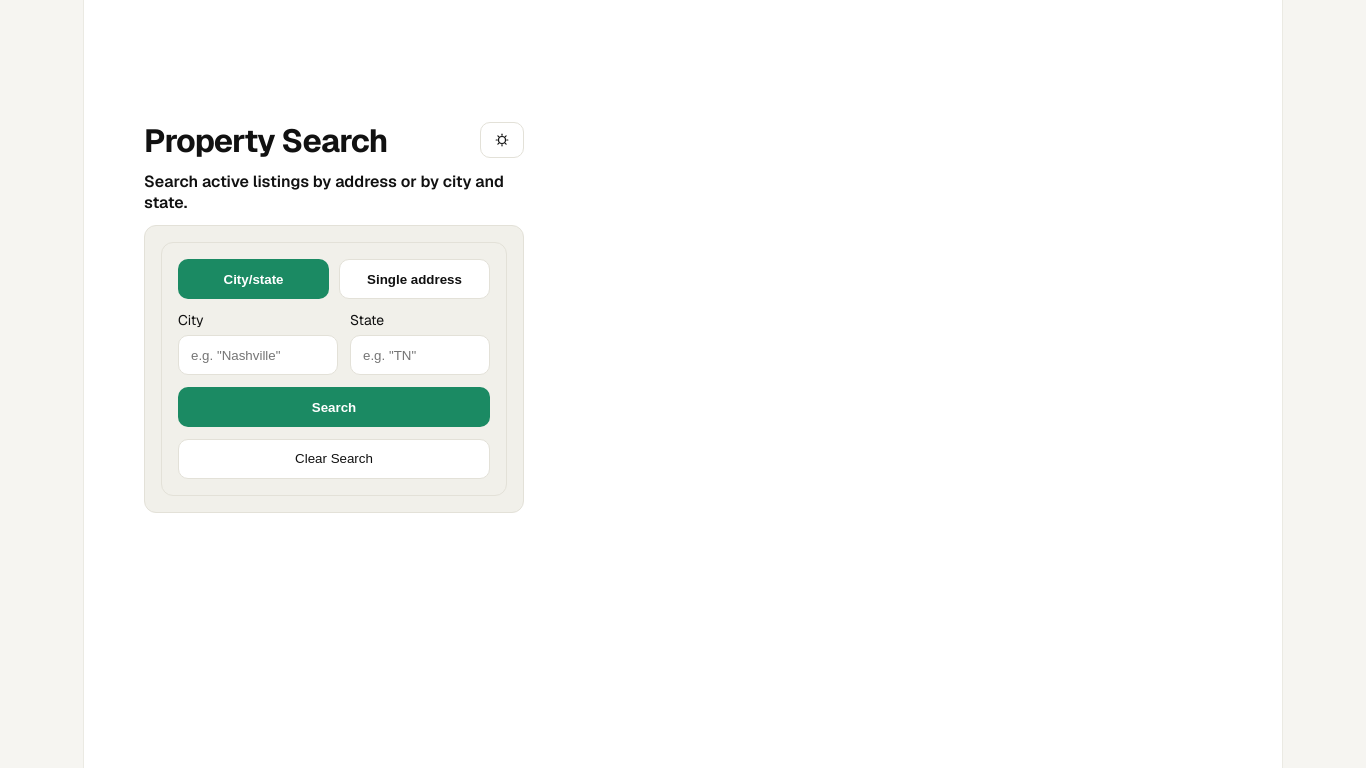
Test: Home page › Clear Search does not change the current mode
The image size is (1366, 768).
Click the button "Single address": (414, 279) [339, 259, 490, 299]
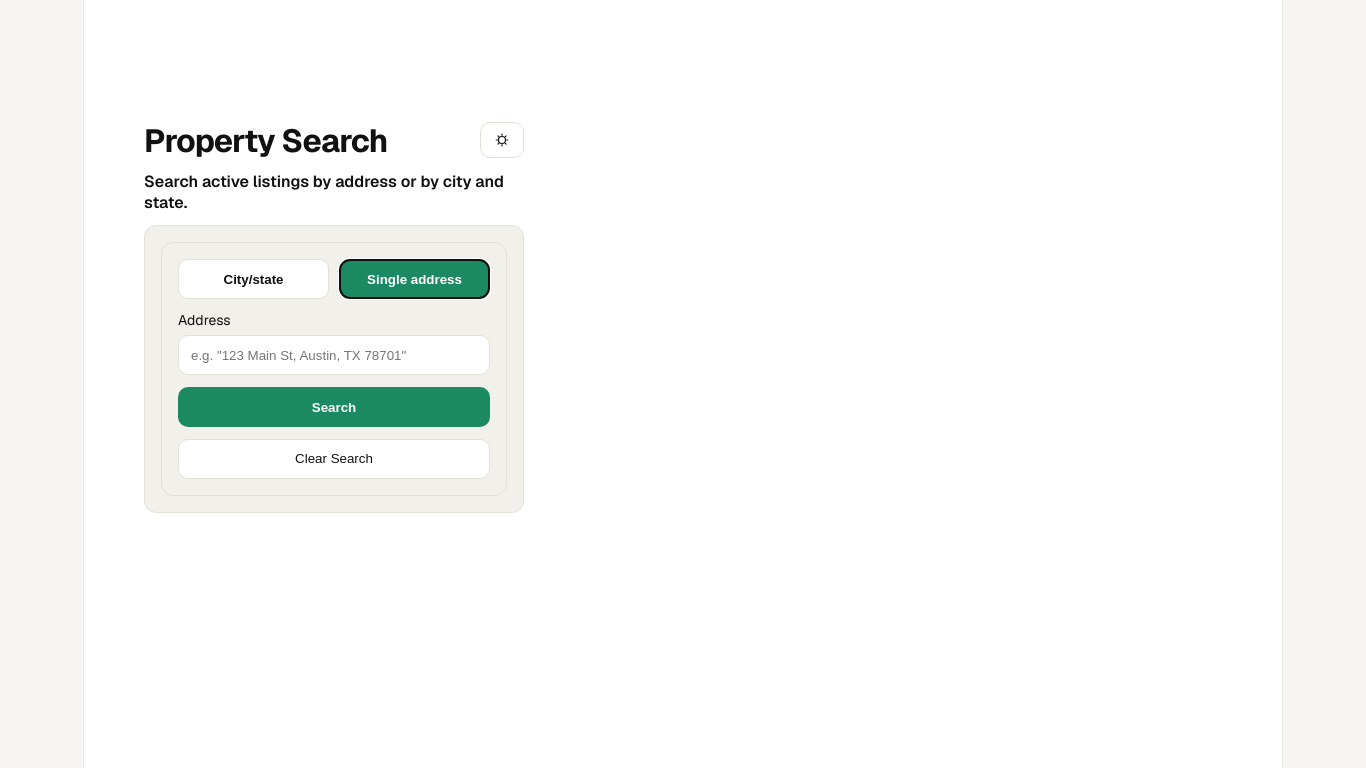
Now the button "Single address" is pressed, box [339, 259, 490, 299]
In the field labelled "Address": (334, 355) [178, 335, 490, 375], type "123 Main St, Austin, TX 78701"
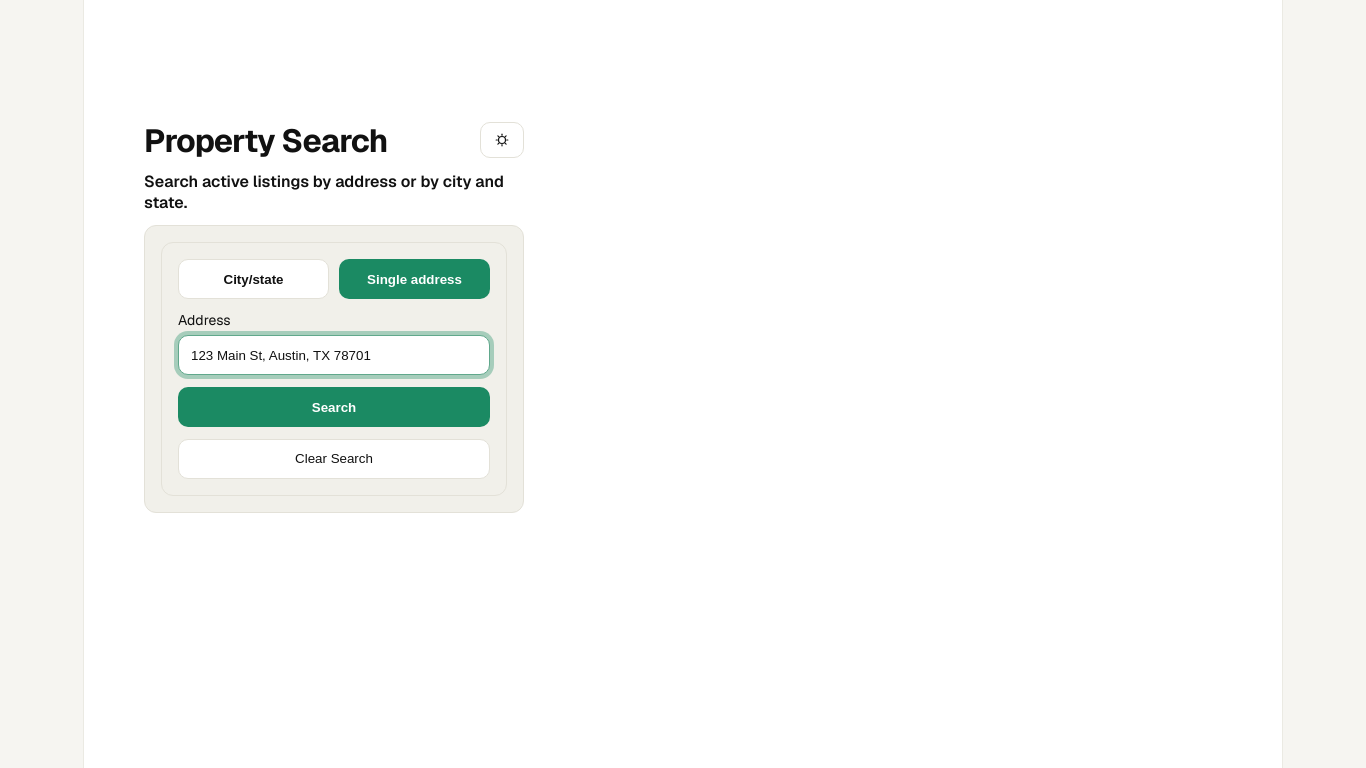
Click the button "Search": (334, 407) [178, 387, 490, 427]
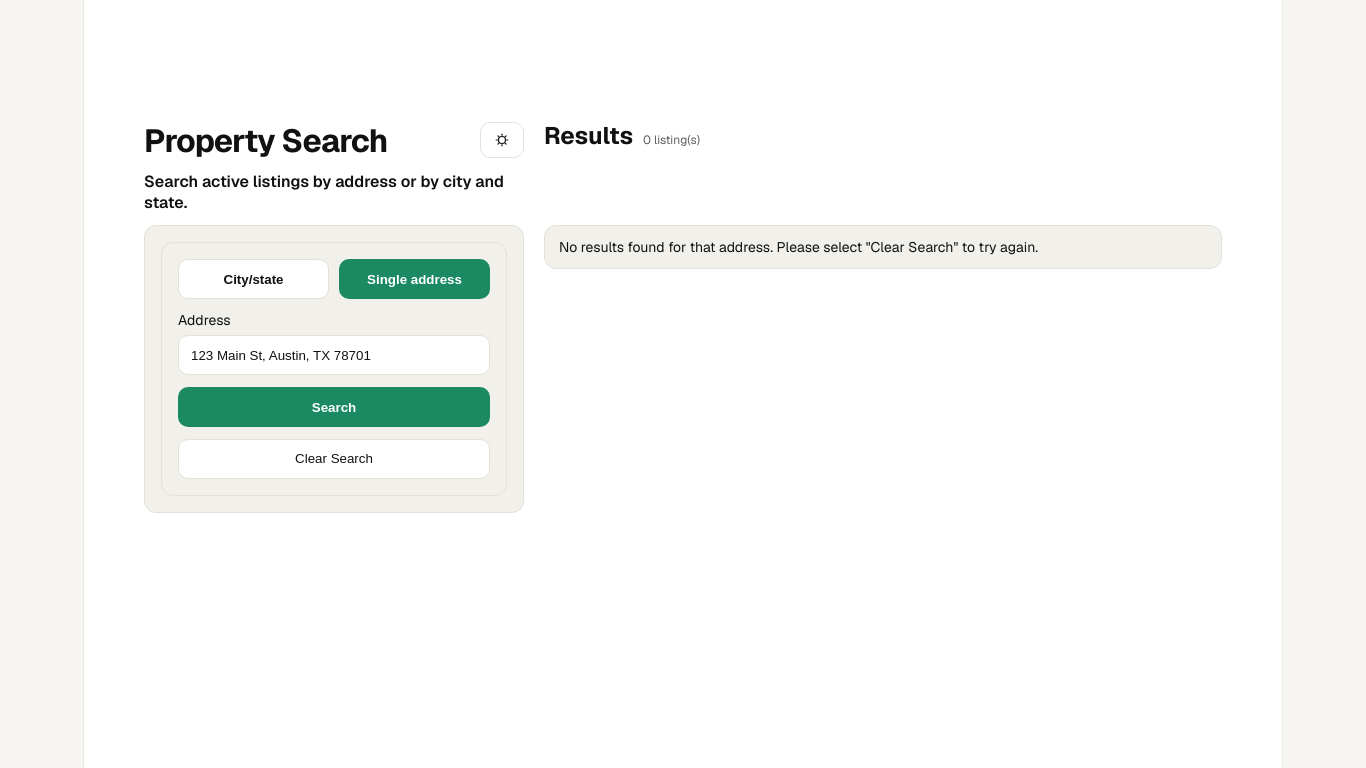
Now the heading "Results" is shown, box [544, 120, 633, 151]
Click the button "Clear Search": (334, 459) [178, 439, 490, 479]
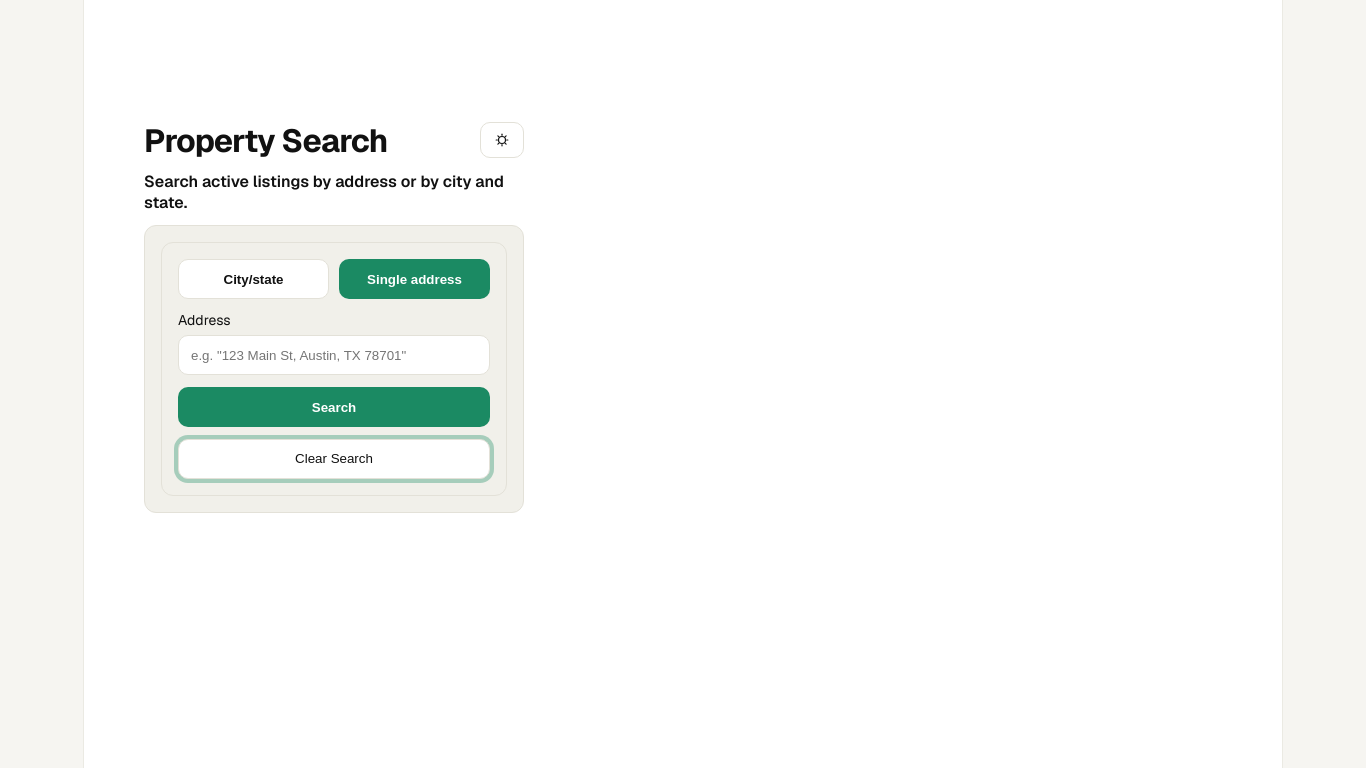
Now the field labelled "Address" is empty, box [178, 335, 490, 375]
